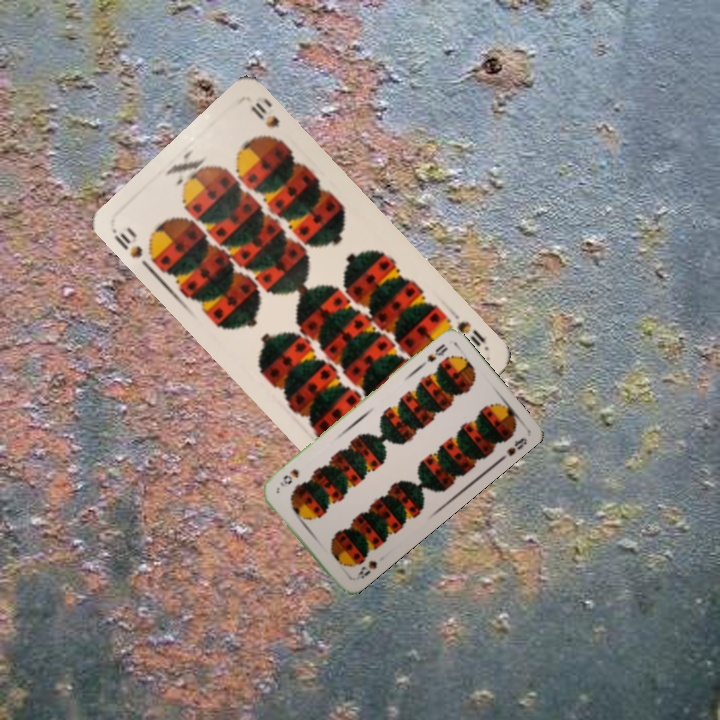S10: (109, 225, 160, 273), (452, 317, 489, 349)
S8: (416, 340, 450, 369), (351, 556, 380, 581)
